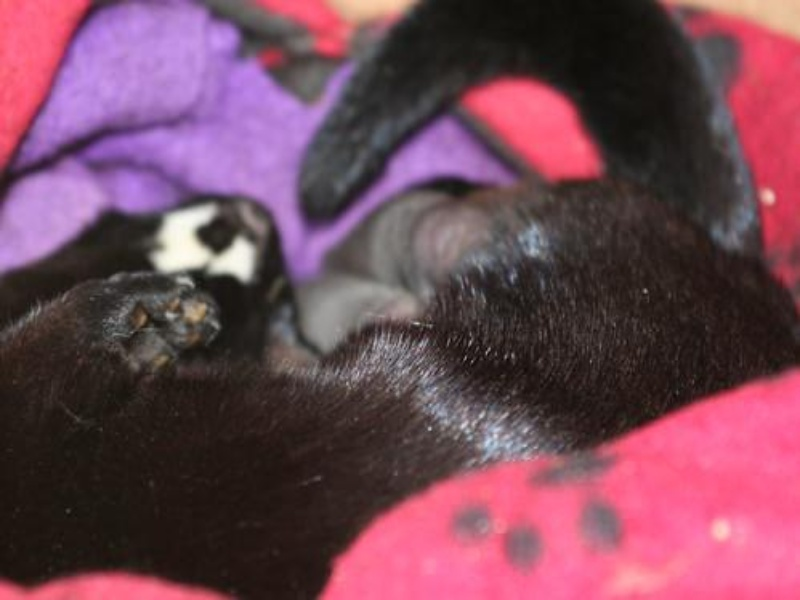minkish: (6, 4, 777, 586)
